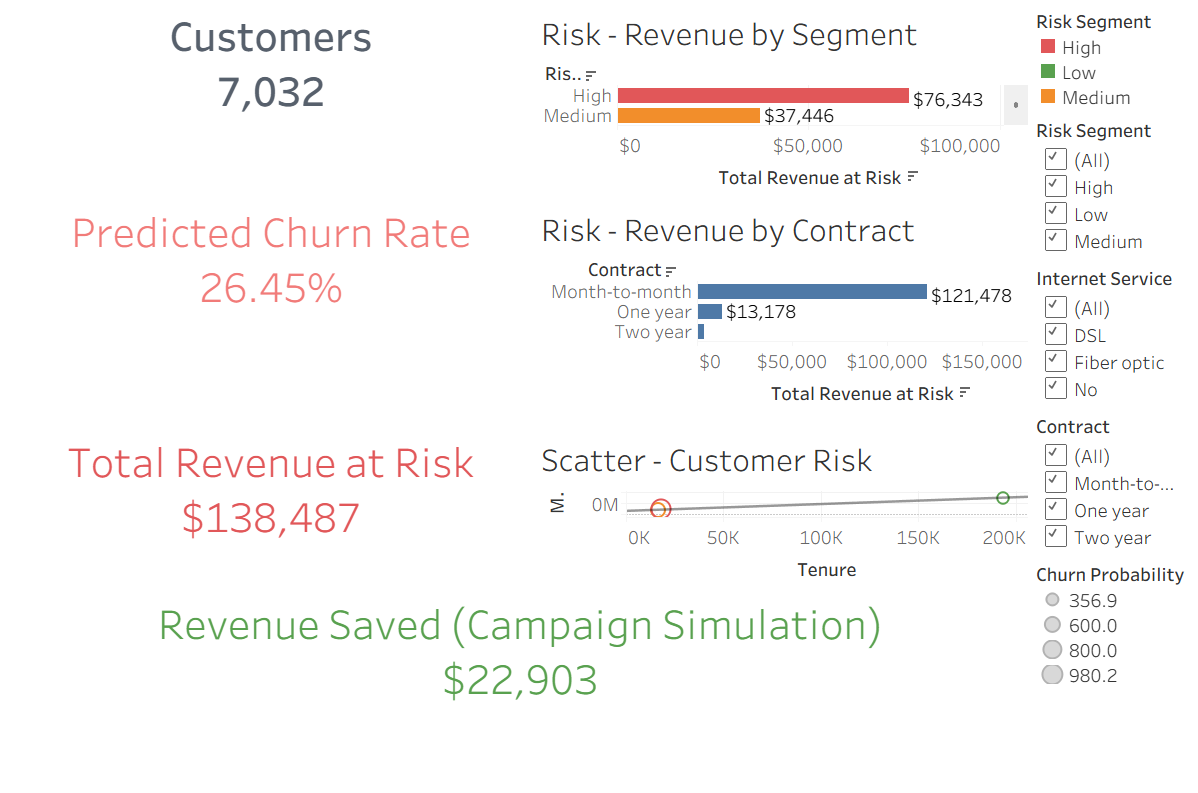

The dashboard page shown, as its layout file describes it:
{"tool":"tableau","page":{"name":"Revenue at Risk - Executive View","canvas":[1200,800],"ordinal":0},"visuals":[{"type":"worksheet","title":"KPI - Customers","mark":"Automatic","box":[8,8,525,196]},{"type":"worksheet","title":"Risk - Revenue by Segment","mark":"Automatic","rows":["risk_segment"],"cols":["Calculation_1572066669006849"],"box":[533,8,499,196]},{"type":"legend","title":"Risk - Revenue by Segment","param":"[federated.1fwuf1m0c99rnx1crzqnf1rameha].[none:risk_segment:nk]","box":[1032,8,160,109]},{"type":"filter","title":"Scatter - Customer Risk","param":"[federated.1fwuf1m0c99rnx1crzqnf1rameha].[none:risk_segment:nk]","box":[1032,117,160,148]},{"type":"worksheet","title":"KPI - Predicted Churn","mark":"Automatic","box":[8,204,525,120]},{"type":"worksheet","title":"Risk - Revenue by Contract","mark":"Automatic","rows":["Contract"],"cols":["Calculation_1572066669006849"],"box":[533,204,499,230]},{"type":"filter","title":"Scatter - Customer Risk","param":"[federated.1fwuf1m0c99rnx1crzqnf1rameha].[none:InternetService:nk]","box":[1032,265,160,148]},{"type":"filter","title":"Scatter - Customer Risk","param":"[federated.1fwuf1m0c99rnx1crzqnf1rameha].[none:Contract:nk]","box":[1032,413,160,148]},{"type":"worksheet","title":"KPI - Revenue at Risk","mark":"Automatic","box":[8,434,525,120]},{"type":"worksheet","title":"Scatter - Customer Risk","mark":"Automatic","rows":["MonthlyCharges"],"cols":["tenure"],"box":[533,434,499,162]},{"type":"legend","title":"Scatter - Customer Risk","param":"[federated.1fwuf1m0c99rnx1crzqnf1rameha].[sum:churn_probability:qk]","box":[1032,561,160,134]},{"type":"worksheet","title":"KPI - Revenue Saved","mark":"Automatic","box":[8,596,1024,120]}]}

Visuals, with their boxes in screenshot pixels (x1, y1, x2, y2), scaled from the page's 1200x800 canvas onto the 1198x793 screenshot:
"KPI - Customers" worksheet: box=[8, 8, 532, 202]
"Risk - Revenue by Segment" worksheet: box=[532, 8, 1030, 202]
"Risk - Revenue by Segment" legend: box=[1030, 8, 1190, 116]
"Scatter - Customer Risk" filter: box=[1030, 116, 1190, 263]
"KPI - Predicted Churn" worksheet: box=[8, 202, 532, 321]
"Risk - Revenue by Contract" worksheet: box=[532, 202, 1030, 430]
"Scatter - Customer Risk" filter: box=[1030, 263, 1190, 409]
"Scatter - Customer Risk" filter: box=[1030, 409, 1190, 556]
"KPI - Revenue at Risk" worksheet: box=[8, 430, 532, 549]
"Scatter - Customer Risk" worksheet: box=[532, 430, 1030, 591]
"Scatter - Customer Risk" legend: box=[1030, 556, 1190, 689]
"KPI - Revenue Saved" worksheet: box=[8, 591, 1030, 710]
